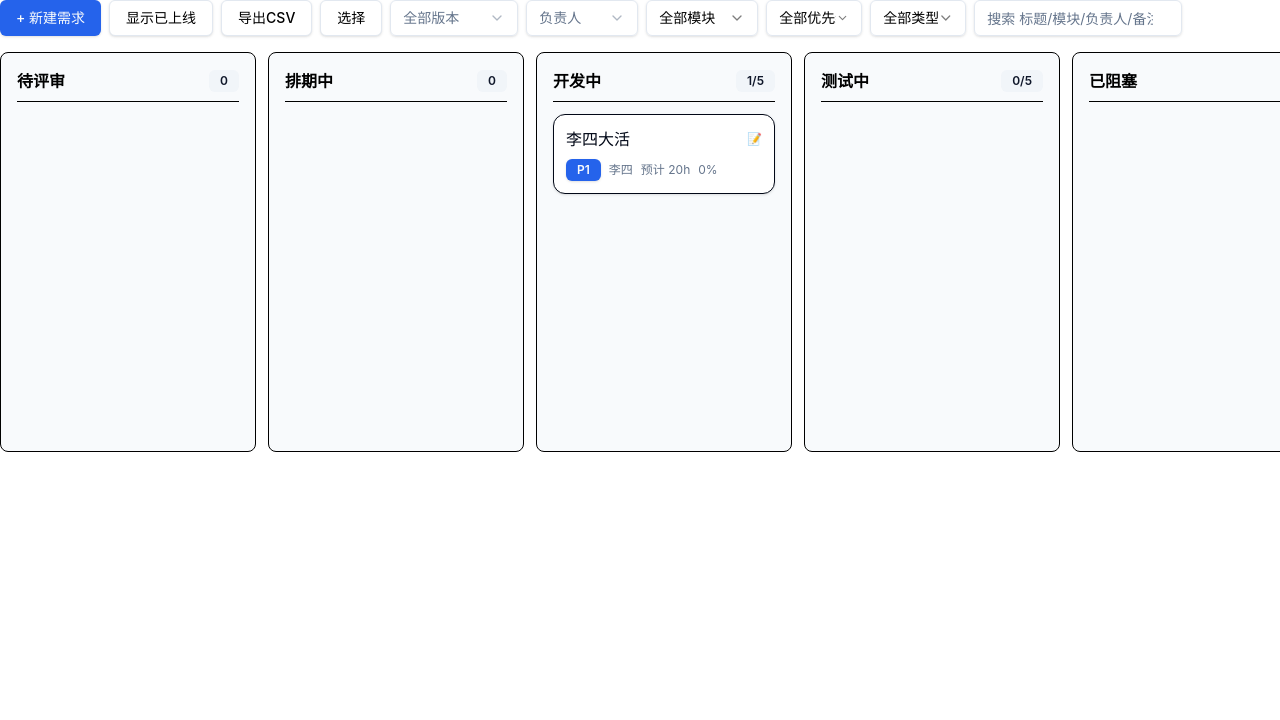
Scenario: Board › 选中超载成员时表单提示超载
Double-click the text "李四大活" at point(598, 139), box [566, 127, 630, 151]
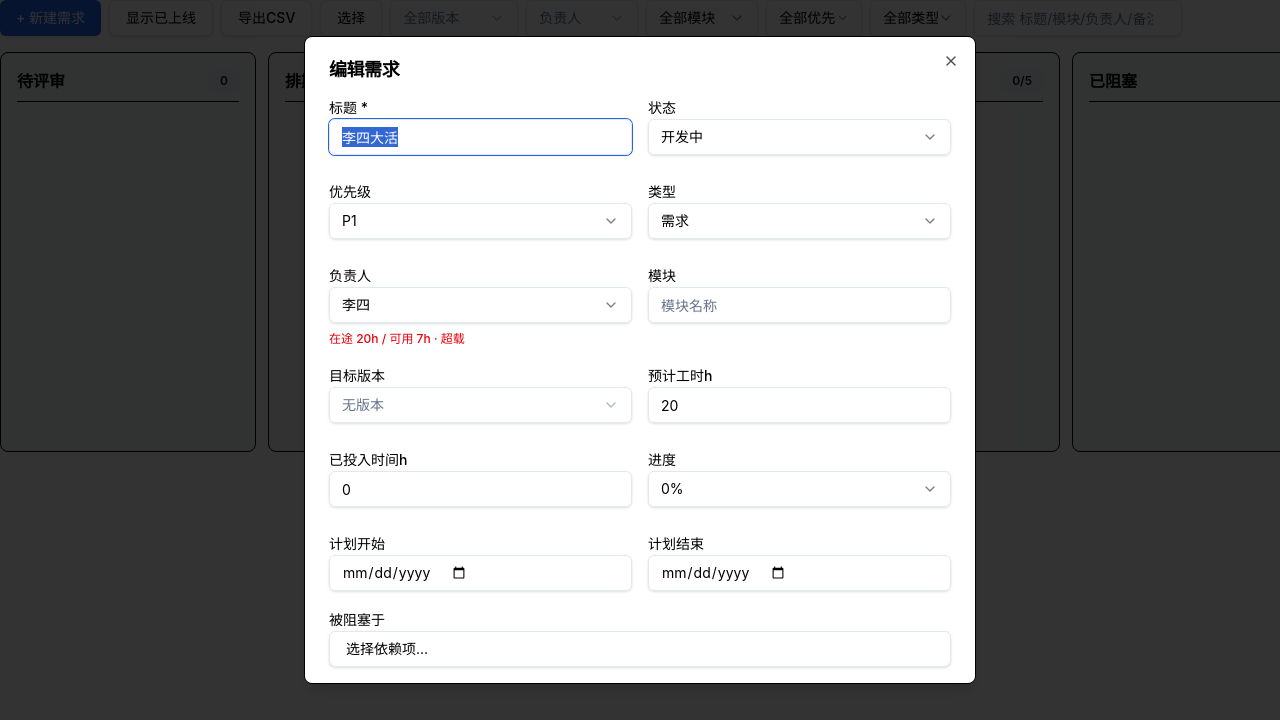
Result: the heading "编辑需求" is shown at [329, 59, 399, 80]
Result: the text "在途 20h / 可用 7h · 超载" is shown at [329, 331, 465, 346]
